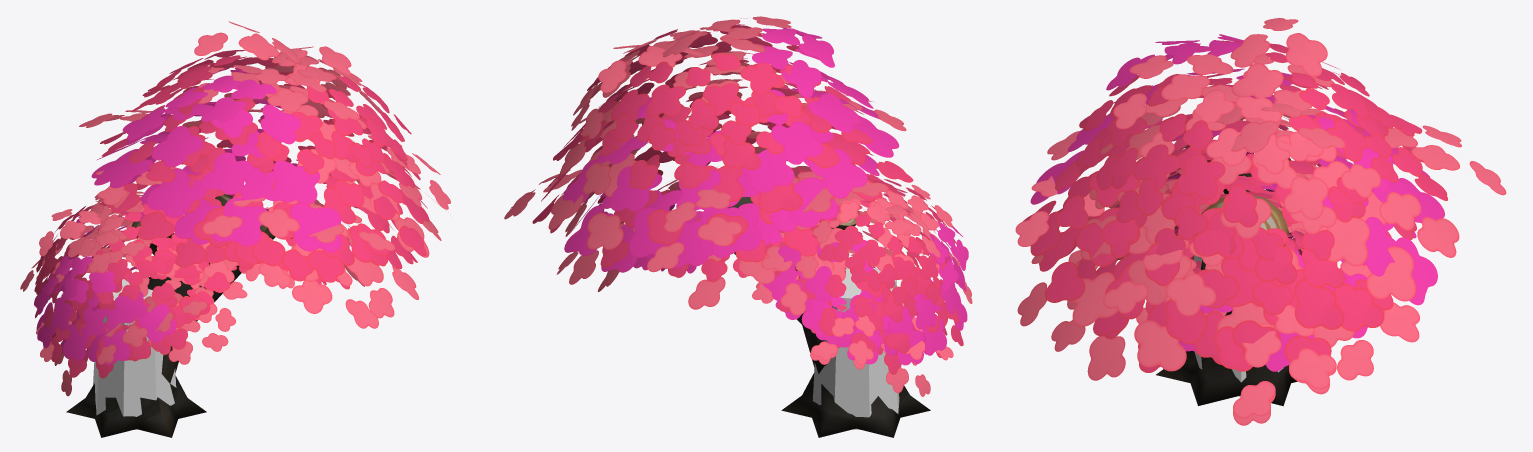
File: cerejeira_jovem.glb
3 views of the same model, side by side, from view 1: azimuth 30°, elevation 25°; view 2: azimuth 150°, elevation 25°; view 3: azimuth 270°, elevation 25° (orthographic). The views are drawn at different scales.
Visible parts, largest first — view 1: MidGrow.004_11, Colisao.008; view 2: MidGrow.004_11, Colisao.008; view 3: MidGrow.004_11.
Boxes of the visible parts, x1,y1,x2,y2 form: MidGrow.004_11: (20,21,450,437); Colisao.008: (93,279,176,429); MidGrow.004_11: (504,16,972,437); Colisao.008: (812,267,901,429); MidGrow.004_11: (1015,18,1506,425).
Bounding box in the file's own units: 2.72 × 2.15 × 2.4.
Materials: 1 (1 with a texture image).
